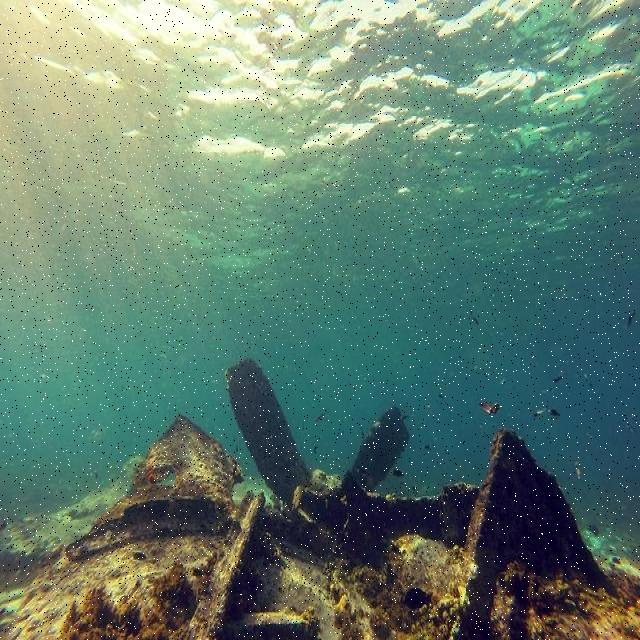wrecks-ruins: (68, 360, 616, 639)
